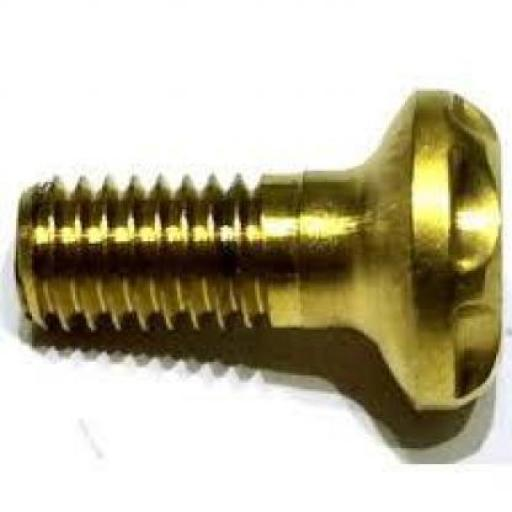Bolt: (13, 89, 503, 451)
